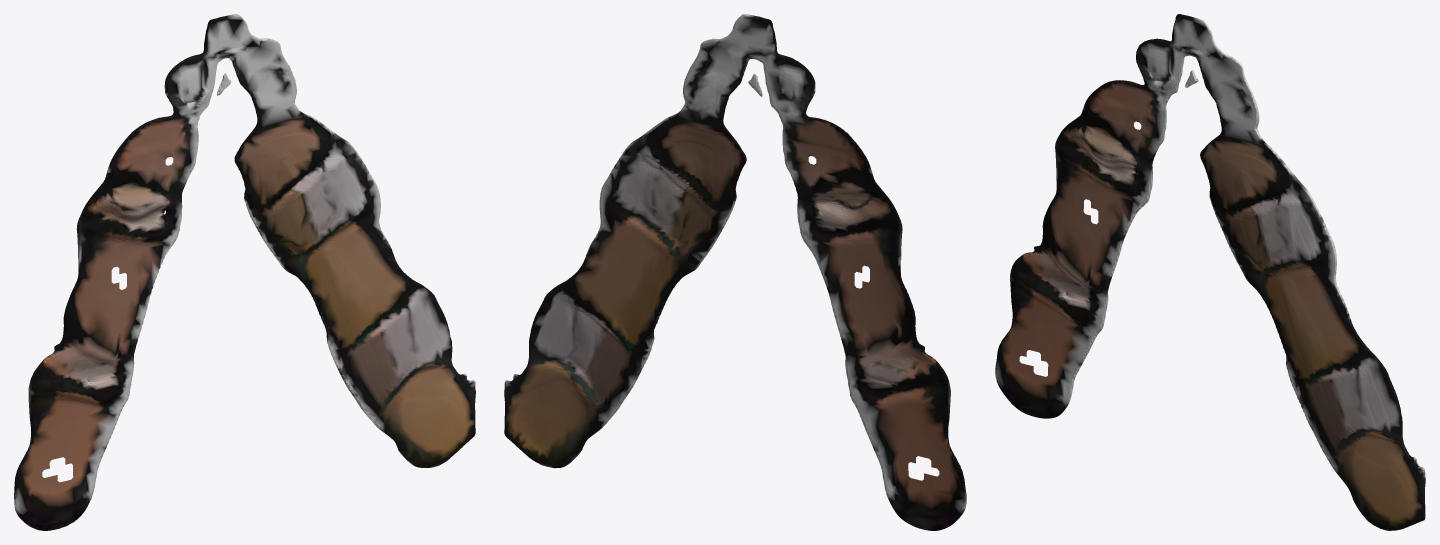
The model's file is nunchacu_2.glb.
3 views of the same model, side by side, from view 1: azimuth 30°, elevation 25°; view 2: azimuth 150°, elevation 25°; view 3: azimuth 330°, elevation 25° (orthographic). The views are drawn at different scales.
Parts seen in each view (by area): view 1: geometry_0; view 2: geometry_0; view 3: geometry_0.
Boxes of the visible parts, x1=… form: geometry_0: x1=14, y1=14, x2=475, y2=530; geometry_0: x1=504, y1=14, x2=966, y2=530; geometry_0: x1=995, y1=14, x2=1425, y2=530.
Bounding box in the file's own units: 0.875 × 0.9073 × 0.0237.
